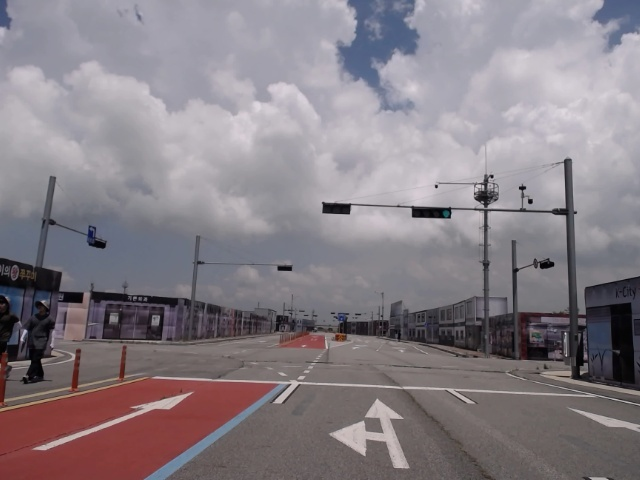straight_green_4: (412, 205, 451, 220)
